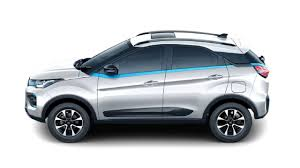Tata Nexon: (23, 29, 273, 145)
